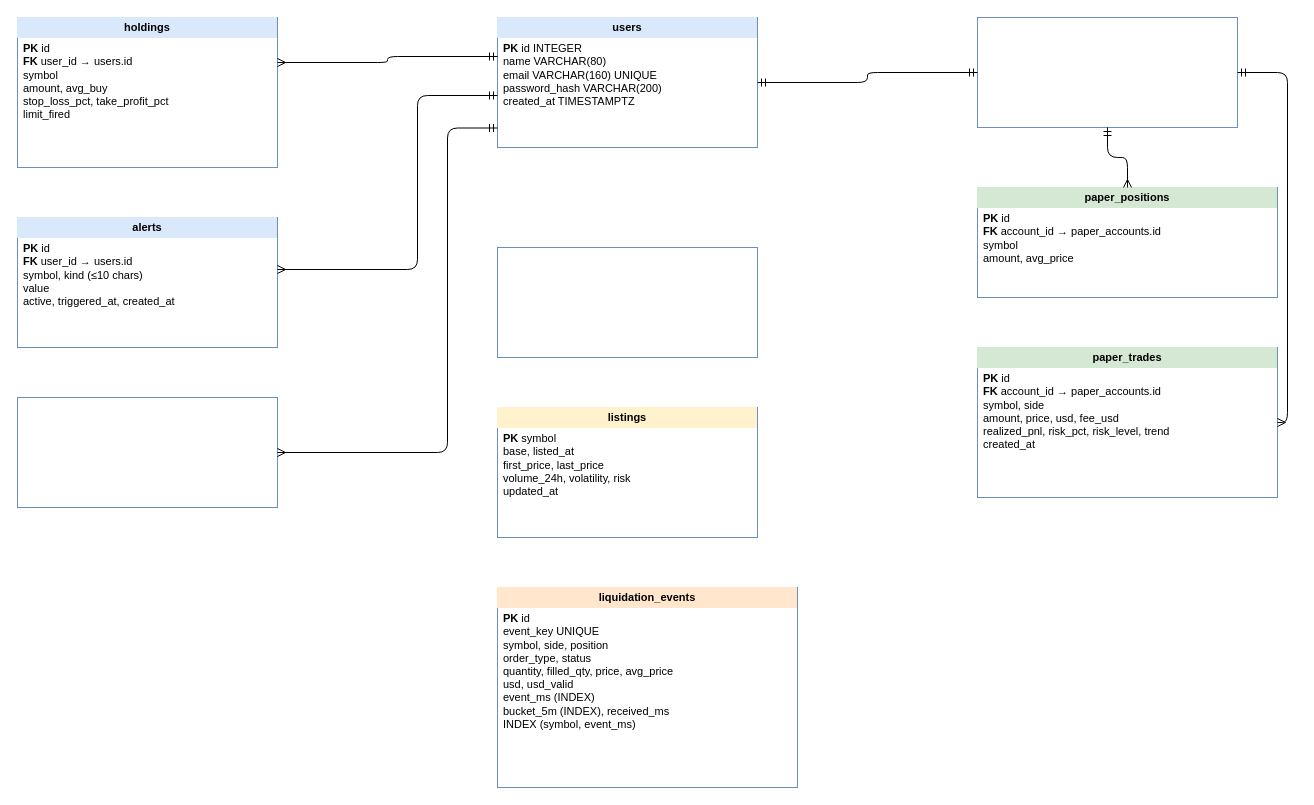
This 1314x805 diagram has some shape labels left out. Each missing label, with the centre of its shape:
"notifications PK id FK user_id → users.id message, kind seen, created_at" belongs at (147,452).
"paper_accounts PK id FK user_id → users.id cash_usd, starting_cash created_at" belongs at (1107,72).
"risk_predictions PK id symbol (INDEX) risk_pct, level, model created_at (INDEX)" belongs at (627,302).
